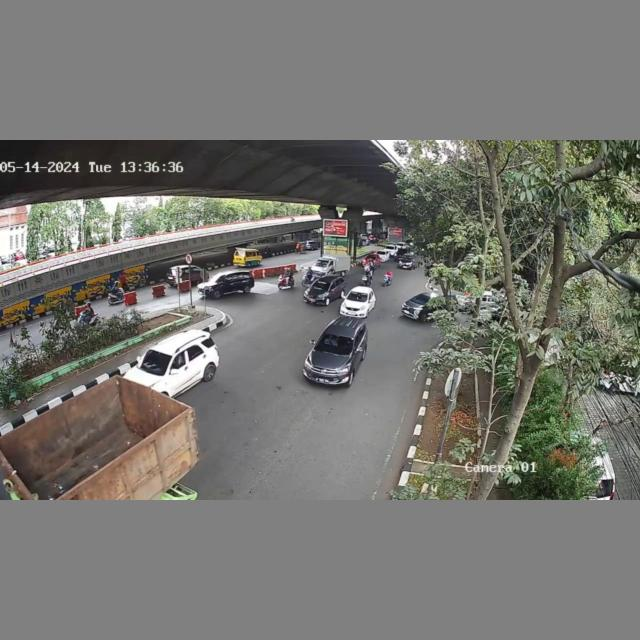windshield: (137, 350, 174, 375), (316, 332, 355, 354), (346, 290, 368, 303)
